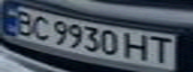0: (100, 28, 121, 56)
3: (81, 25, 103, 54)
9: (48, 18, 72, 46), (63, 21, 84, 50)
B: (9, 8, 39, 36)
C: (27, 14, 54, 40)
H: (124, 30, 154, 62)
T: (145, 34, 178, 64)
